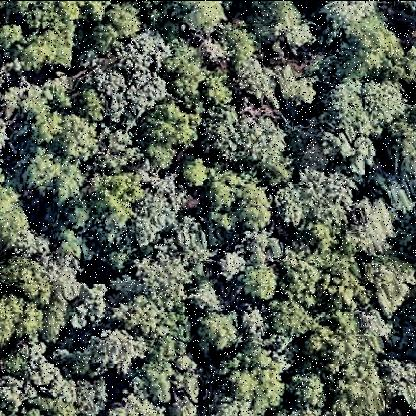tree-top: (207, 109, 290, 179), (91, 47, 163, 121), (327, 77, 409, 139), (205, 168, 275, 238), (135, 234, 207, 302), (12, 10, 81, 78), (288, 165, 358, 231), (144, 310, 194, 386), (309, 320, 375, 376), (89, 167, 144, 232), (347, 193, 401, 256), (22, 145, 82, 201), (143, 100, 199, 154), (314, 261, 366, 318), (365, 256, 416, 314), (340, 22, 396, 74), (162, 39, 206, 105), (331, 366, 386, 416), (264, 1, 318, 51), (92, 322, 144, 372), (53, 112, 100, 166), (50, 367, 101, 416), (193, 308, 243, 356), (268, 296, 318, 344), (3, 340, 53, 388), (279, 61, 323, 111), (233, 56, 277, 106), (217, 22, 262, 70), (98, 1, 146, 45), (1, 189, 33, 254), (383, 351, 416, 412), (3, 78, 43, 128), (236, 260, 281, 304), (286, 370, 331, 414), (219, 360, 263, 405), (76, 280, 114, 330), (390, 115, 416, 187), (173, 2, 225, 36), (317, 2, 377, 28), (107, 391, 169, 416), (1, 287, 27, 346), (188, 280, 226, 318), (107, 298, 151, 330), (205, 394, 263, 416), (213, 246, 246, 284), (144, 139, 179, 174), (180, 152, 211, 190), (1, 373, 26, 416), (397, 40, 416, 90), (1, 19, 23, 57)
